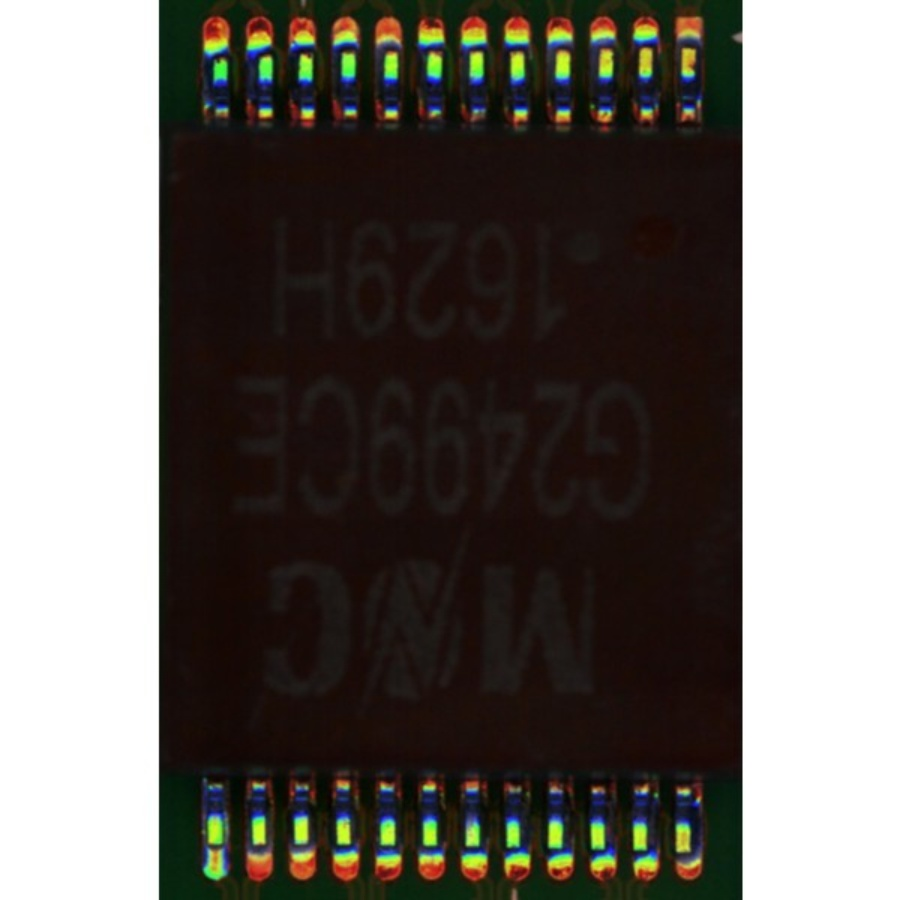Bad_podu: (206, 839, 220, 865)
